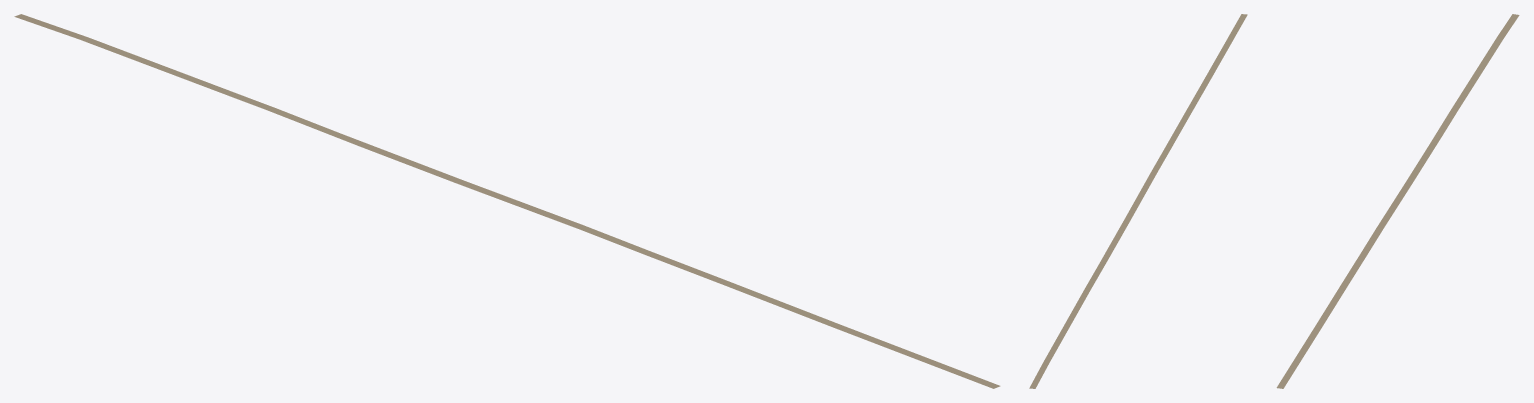
Rendered from farm_-5_15_track.glb.
3 views of the same model, side by side, from view 1: azimuth 30°, elevation 25°; view 2: azimuth 150°, elevation 25°; view 3: azimuth 330°, elevation 25° (orthographic). The views are drawn at different scales.
Visible parts, largest first — view 1: geometry_0; view 2: geometry_0; view 3: geometry_0.
Part boxes in pixels (x1,y1,x2,y2): geometry_0: [14, 14, 1000, 388]; geometry_0: [1029, 14, 1247, 388]; geometry_0: [1276, 14, 1519, 388].
Bounding box in the file's own units: 122 × 10.63 × 418.
